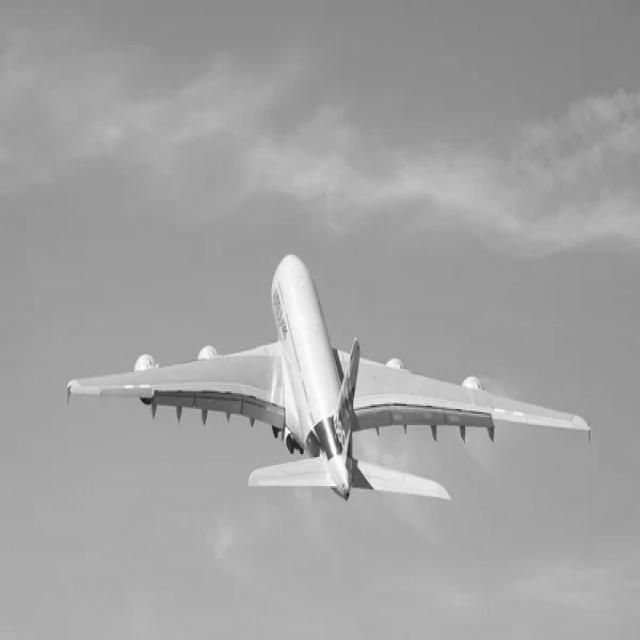Aircraft: (72, 243, 590, 500)
